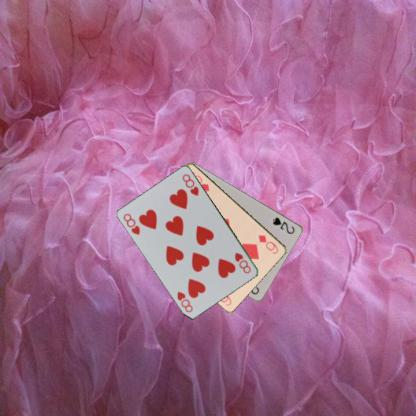2s: (270, 214, 296, 235)
6d: (256, 233, 280, 256)
8h: (120, 211, 142, 236), (232, 250, 252, 275)
